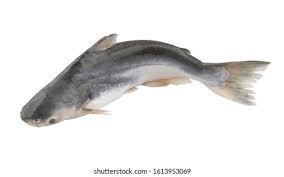Pangasius: (17, 32, 268, 127)
